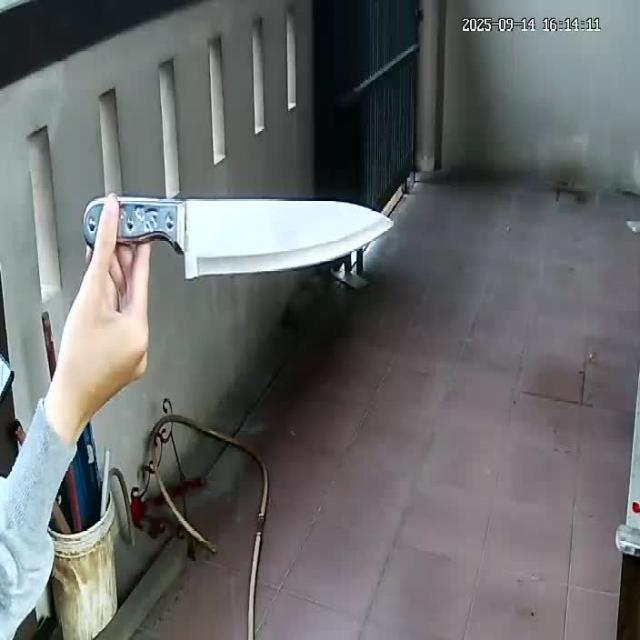senjata_tajam: (151, 196, 397, 285)
